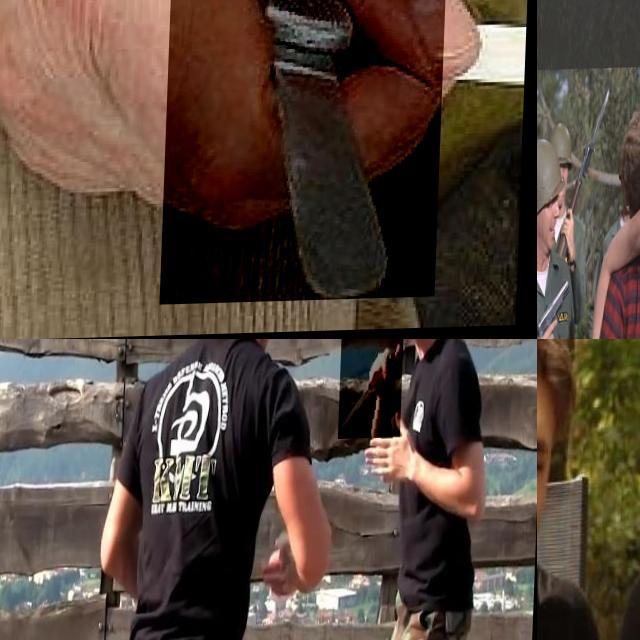-: (164, 0, 451, 306), (339, 339, 405, 441)
gun-knife-thesis - v11 Yolov5 augmented: (537, 0, 608, 127), (537, 152, 566, 339), (537, 278, 571, 339), (537, 24, 553, 75)
